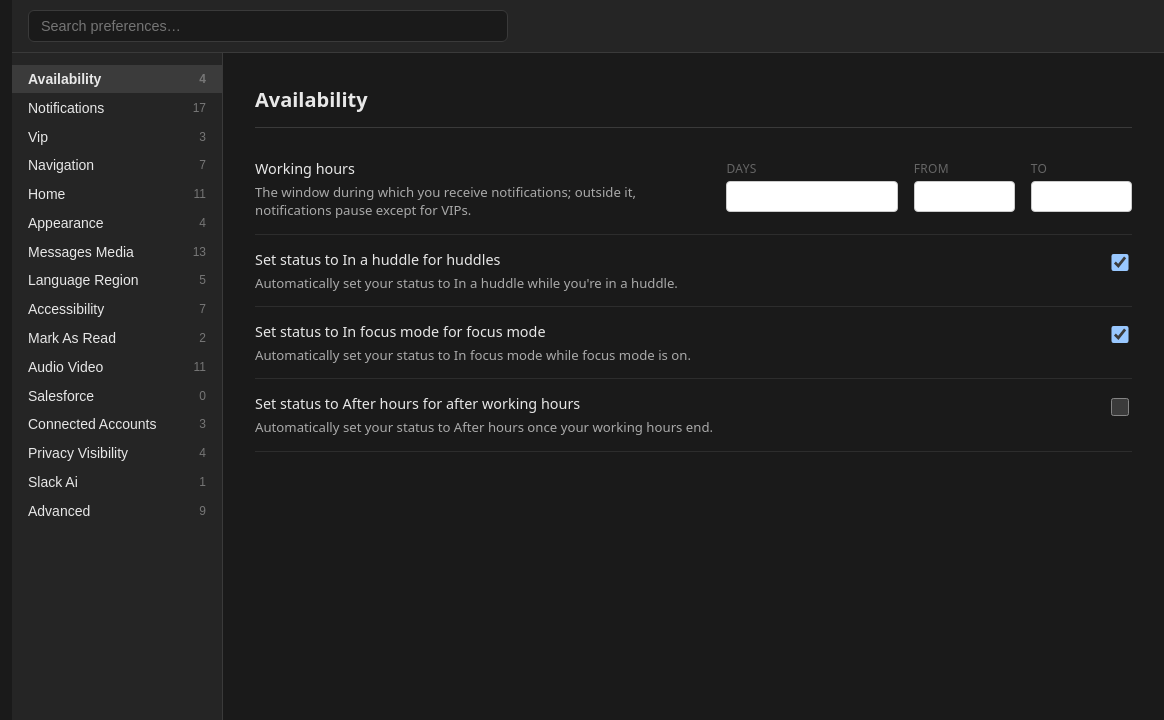
it: App › switching categories updates the detail pane
Click the button "Notifications 17": (117, 108) x1=12 y1=93 x2=222 y2=122
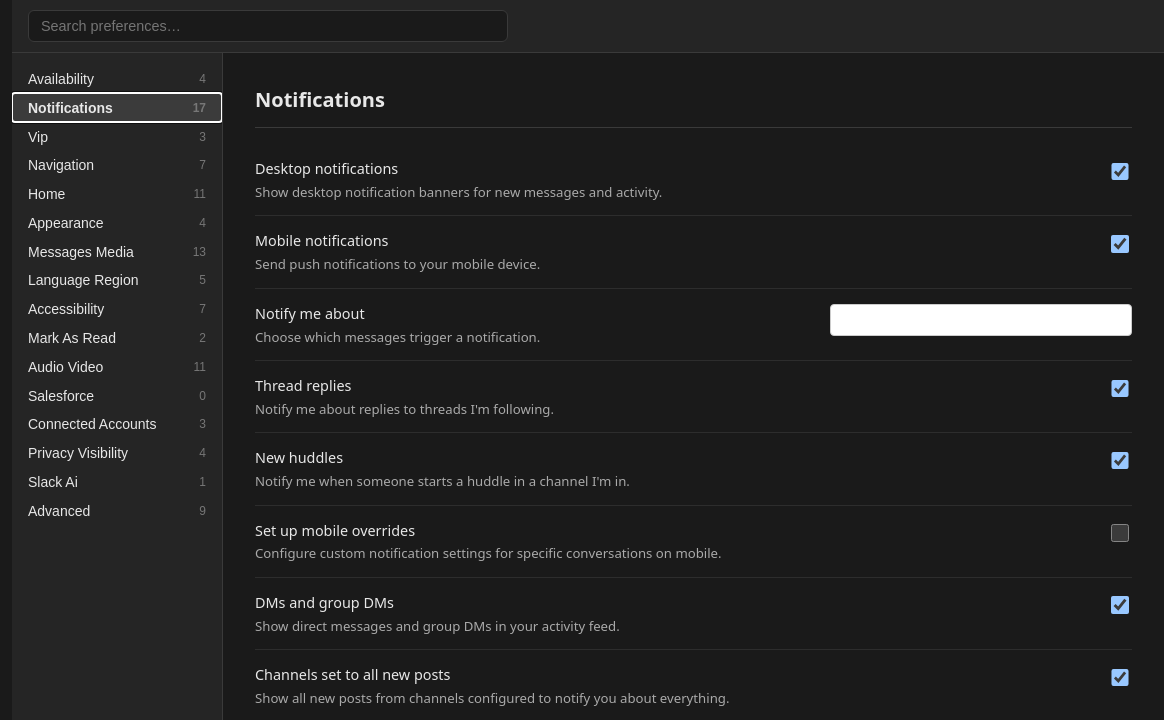
Check: the heading "Notifications" is shown, box x1=255 y1=85 x2=1132 y2=128
